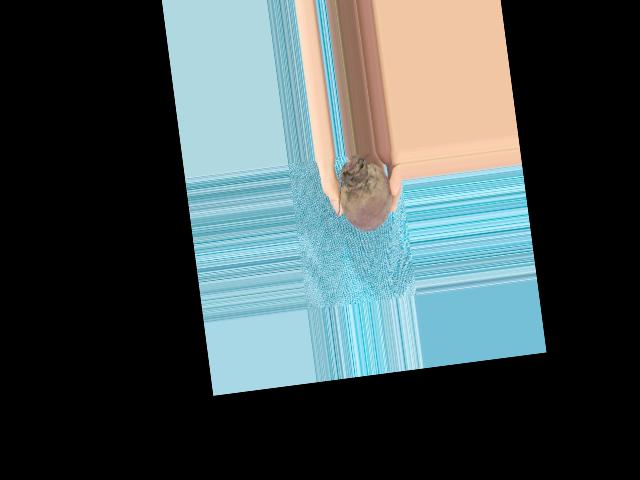beet: (328, 152, 395, 234)
